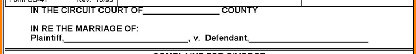textline: (62, 32, 190, 44), (247, 33, 369, 44), (141, 8, 220, 16)
